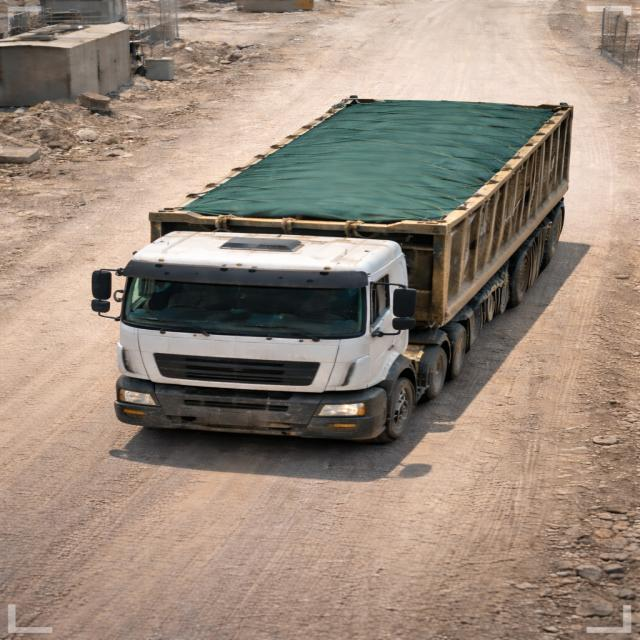Box: (152, 96, 575, 225)
Truck: (88, 94, 576, 444)
